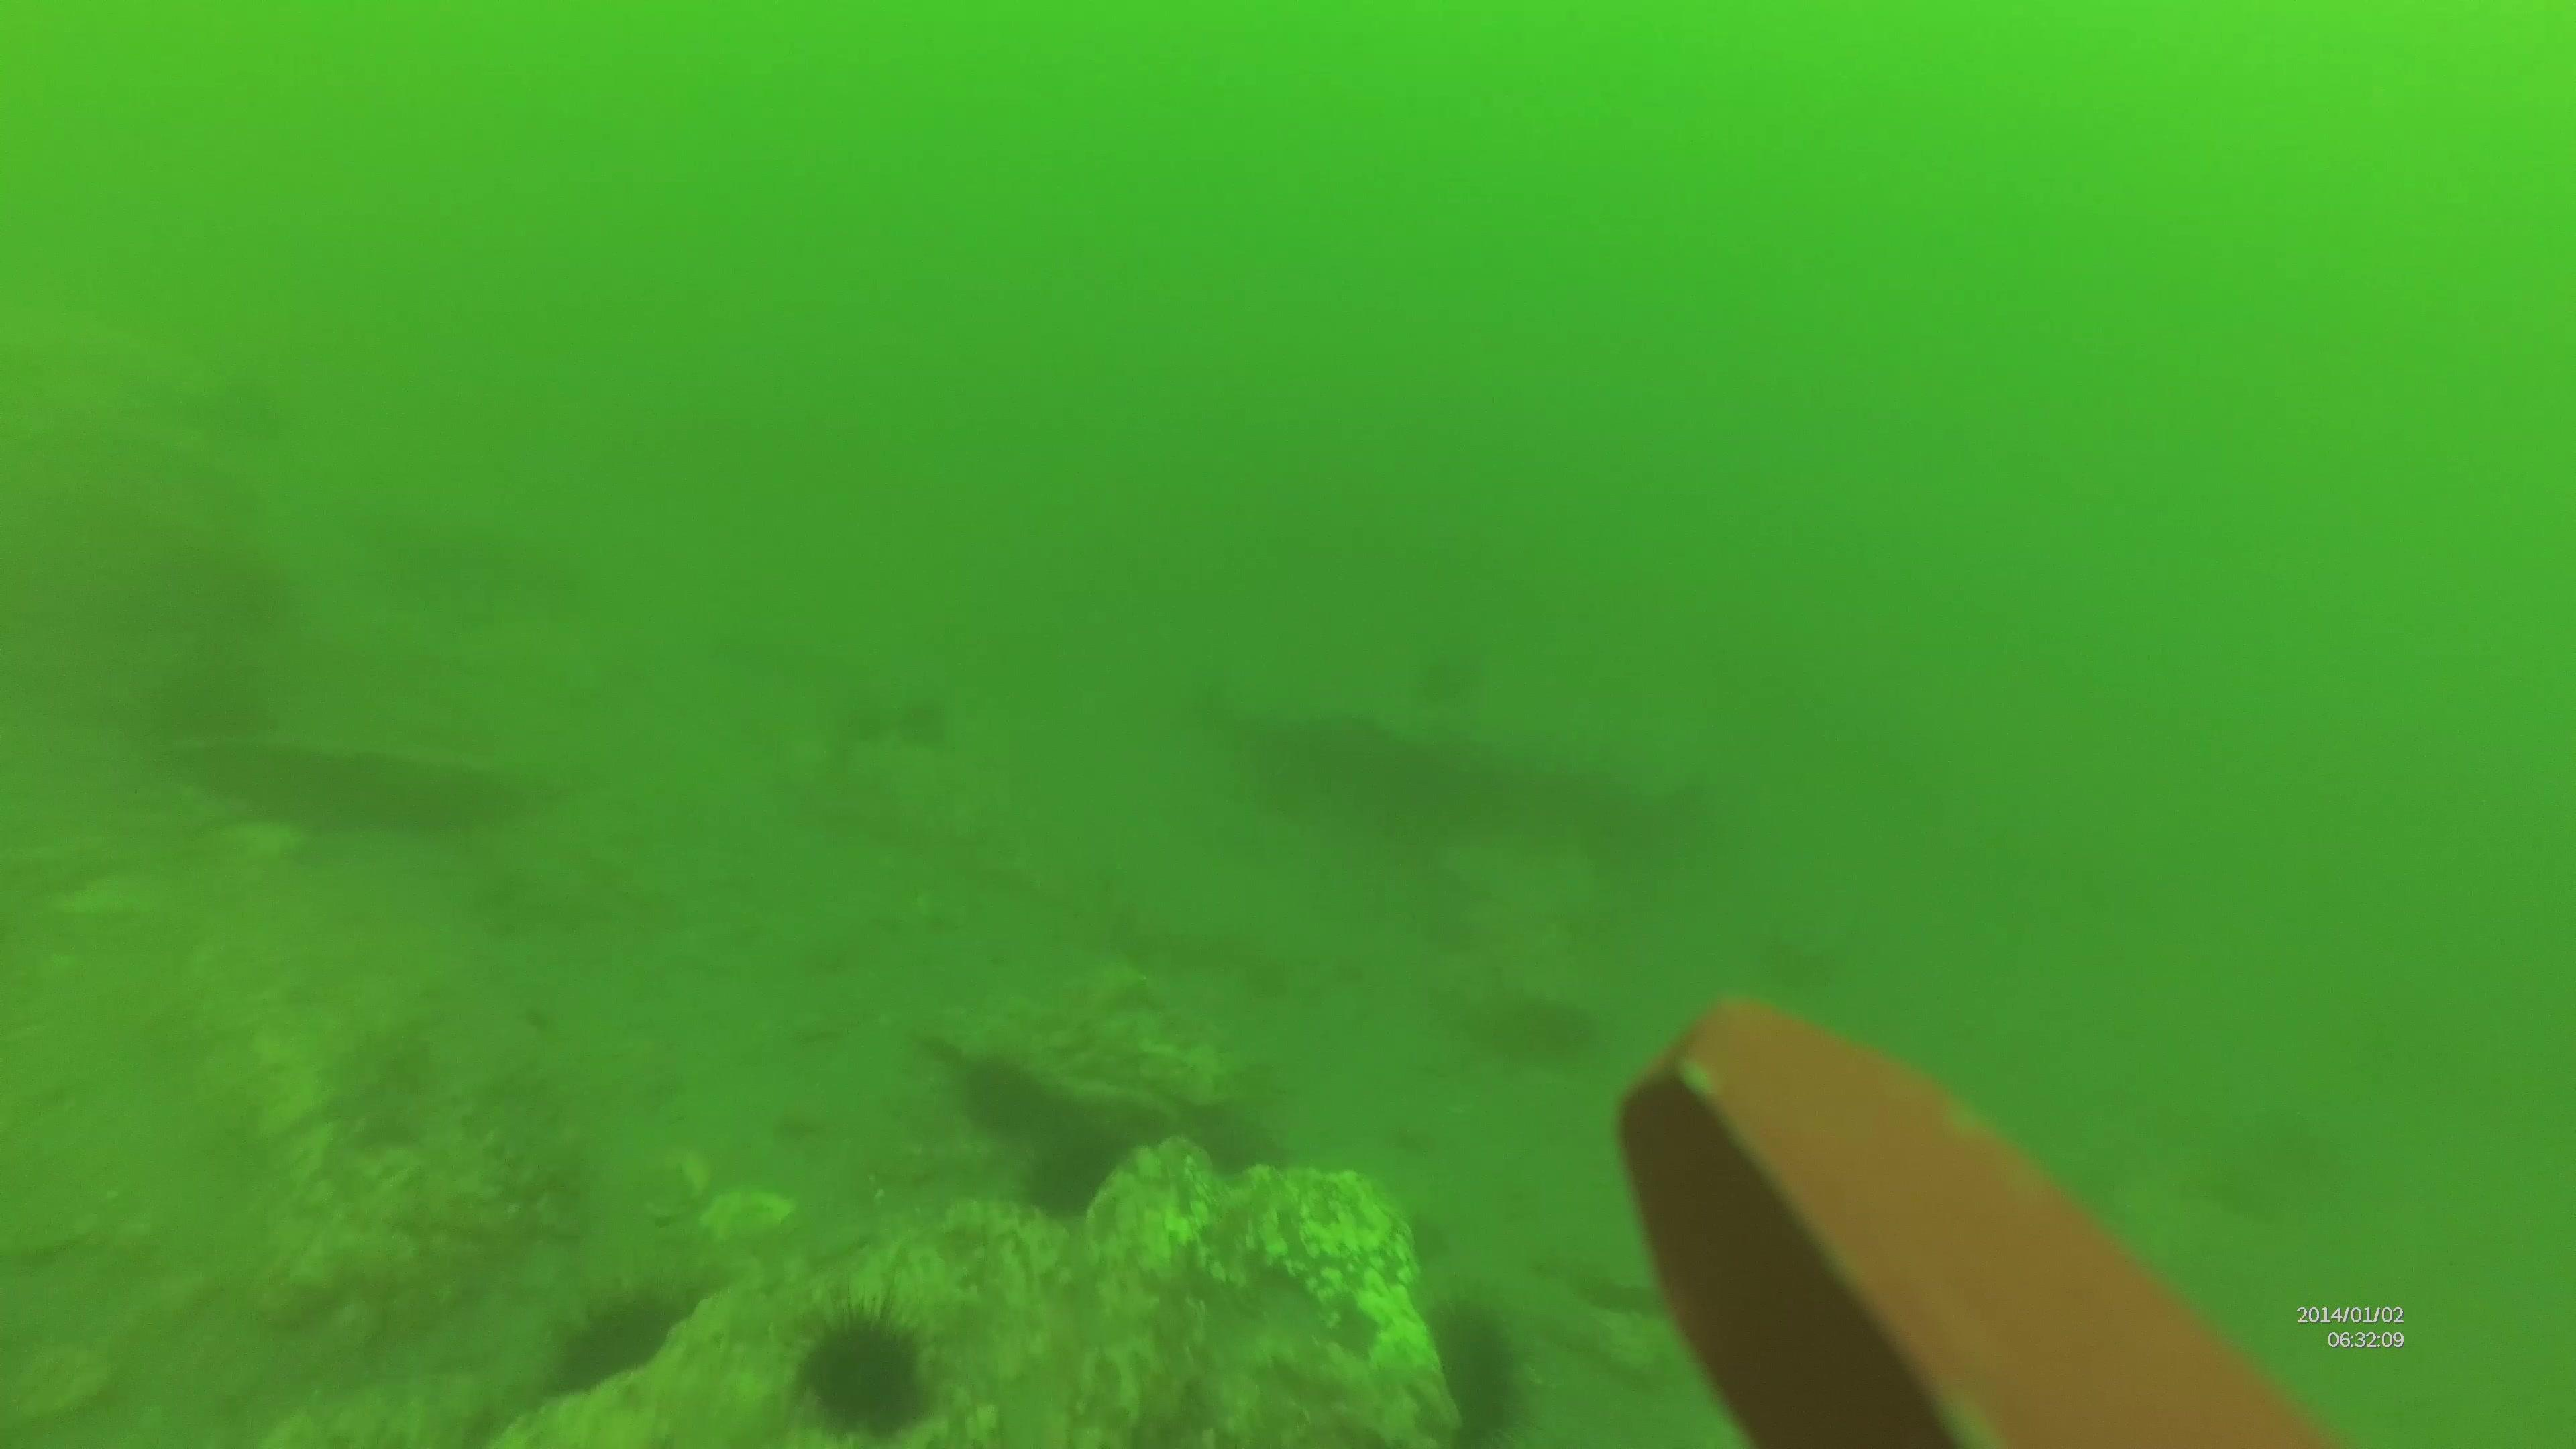echinus: (794, 1307, 936, 1438), (547, 1277, 701, 1391), (1421, 1299, 1532, 1445), (959, 1062, 1042, 1138), (1026, 1136, 1108, 1208)
scallop: (191, 731, 561, 839), (690, 1192, 796, 1246)
